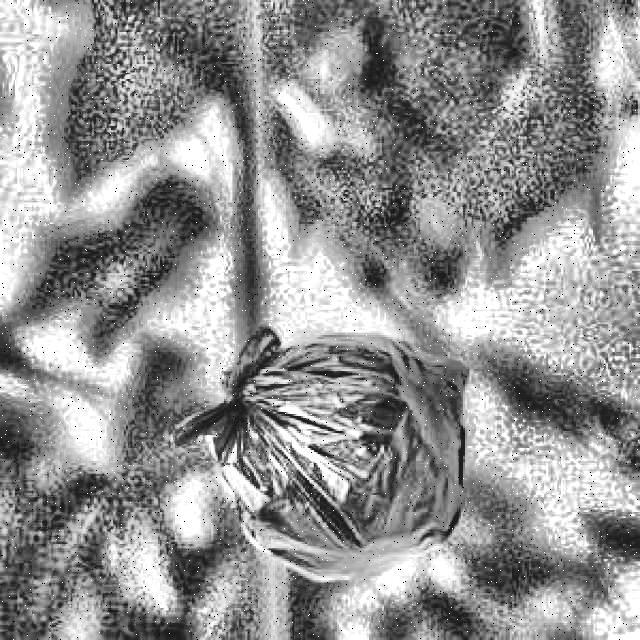Trashbag: (205, 330, 482, 588)
